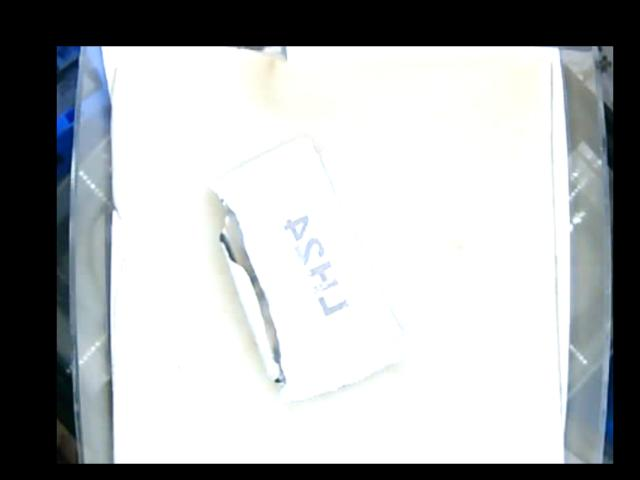Medicine: (209, 135, 408, 401)
